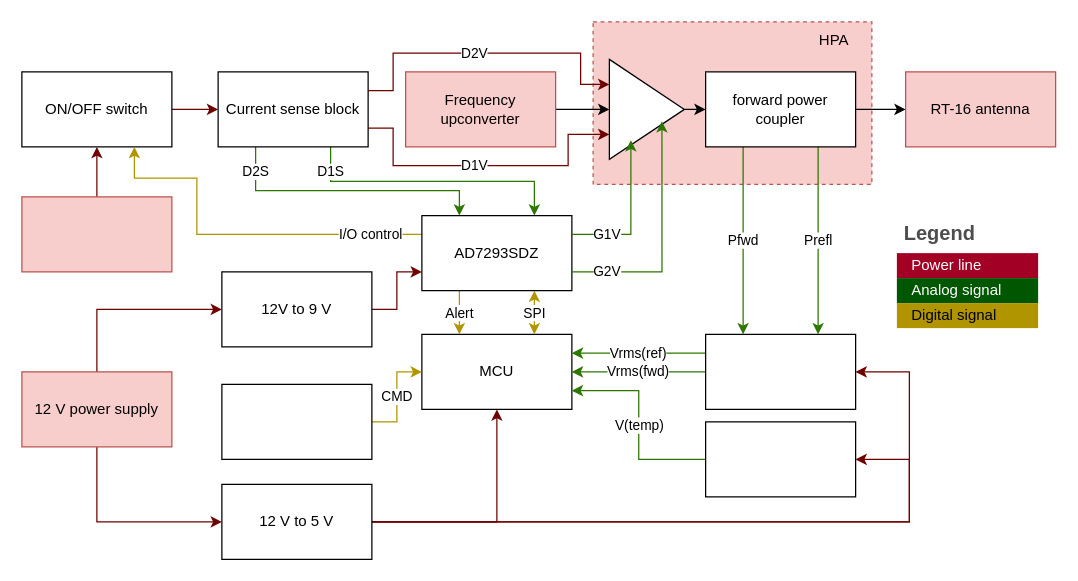
The diagram is 1078 pixels wide and 581 high, and some of its shapes have lost their labels. The centre of each missing label's shape, as x and y in pixels:
24 V power supply: the point at 96,234
2x PA: the point at 646,108
Control computer: the point at 296,421
RMS RF Power Detector: the point at 780,371
TEMP measure of power amplifier: the point at 780,459
